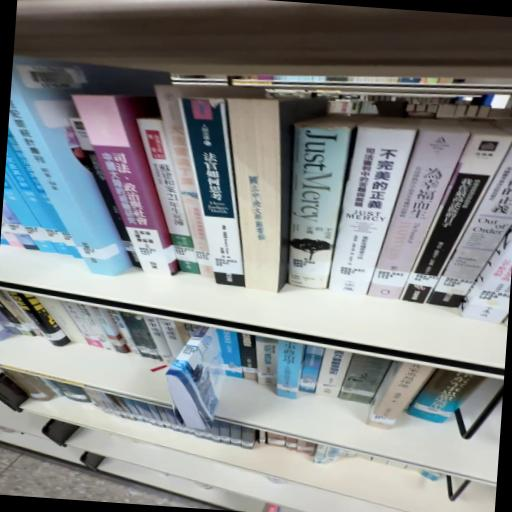backward: (229, 99, 327, 294)
book: (57, 98, 192, 284), (204, 92, 324, 298), (150, 95, 260, 293), (125, 116, 219, 287)
